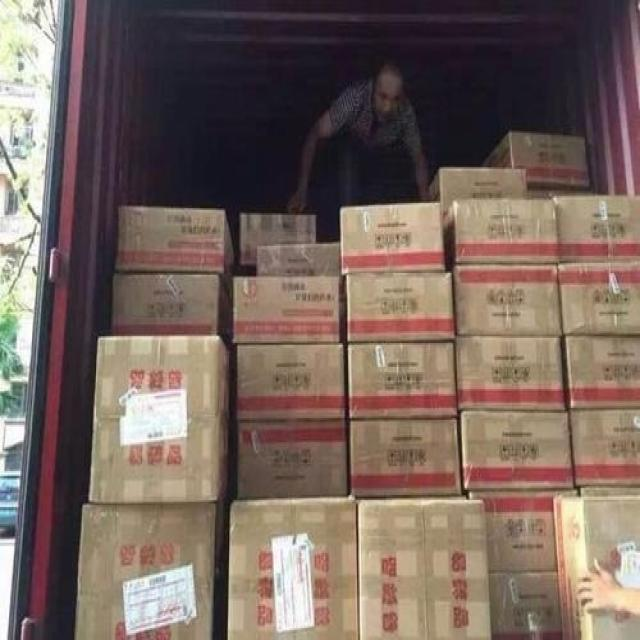box: (87, 335, 232, 502), (74, 503, 216, 640), (357, 500, 492, 640), (228, 495, 358, 640), (554, 495, 639, 640), (116, 205, 234, 299), (233, 420, 349, 500), (460, 411, 573, 492), (348, 340, 458, 420), (349, 418, 462, 495), (236, 343, 347, 420), (454, 335, 566, 410), (233, 275, 347, 345), (346, 271, 456, 343), (444, 198, 559, 266), (452, 265, 562, 336), (111, 275, 230, 340), (340, 203, 447, 275), (470, 490, 557, 575), (558, 261, 640, 336), (479, 131, 590, 186), (554, 195, 639, 263), (564, 336, 640, 410), (568, 410, 639, 486), (489, 570, 562, 640), (426, 167, 527, 217), (241, 213, 316, 265), (257, 241, 340, 276)
